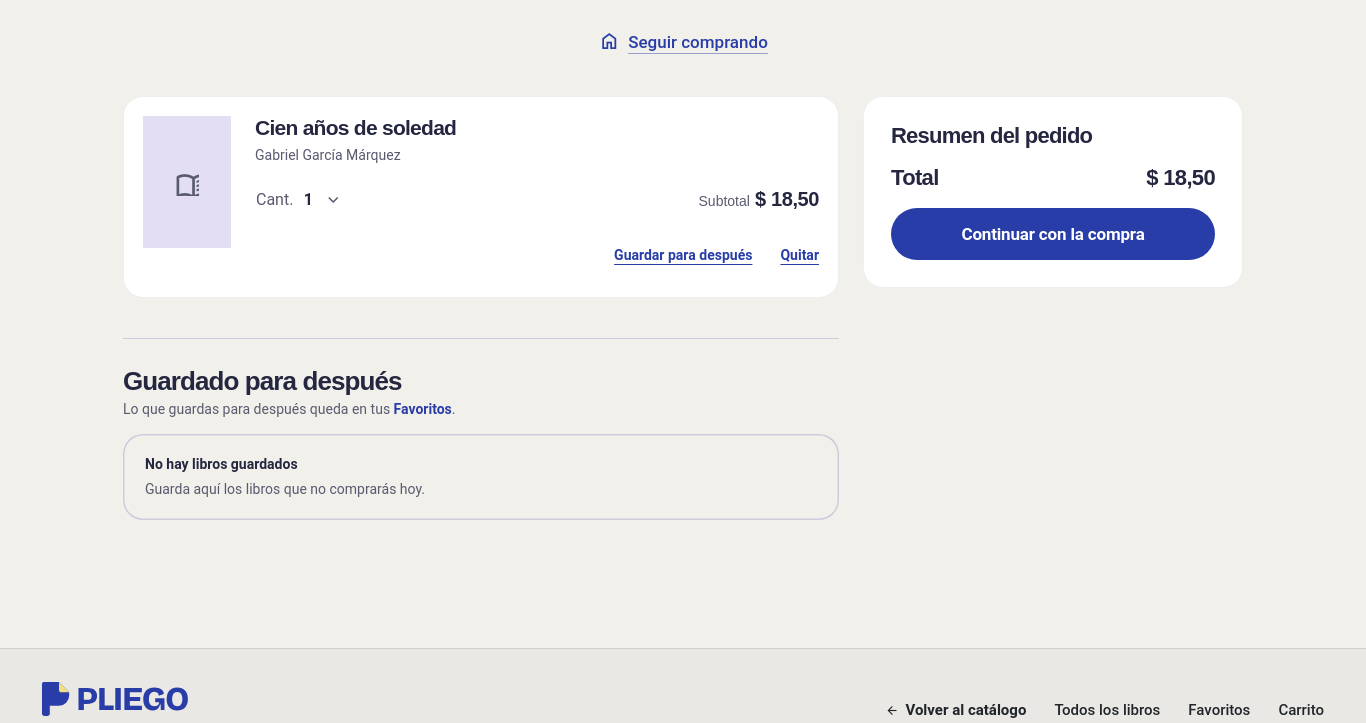
Test: CartPage › recovers from an unconfirmed change by re-reading the cart instead of repeating it
The image size is (1366, 723).
Click the dropdown named "Cantidad de Cien años de soledad". click: [298, 200]
box: 245,178 -> 350,222
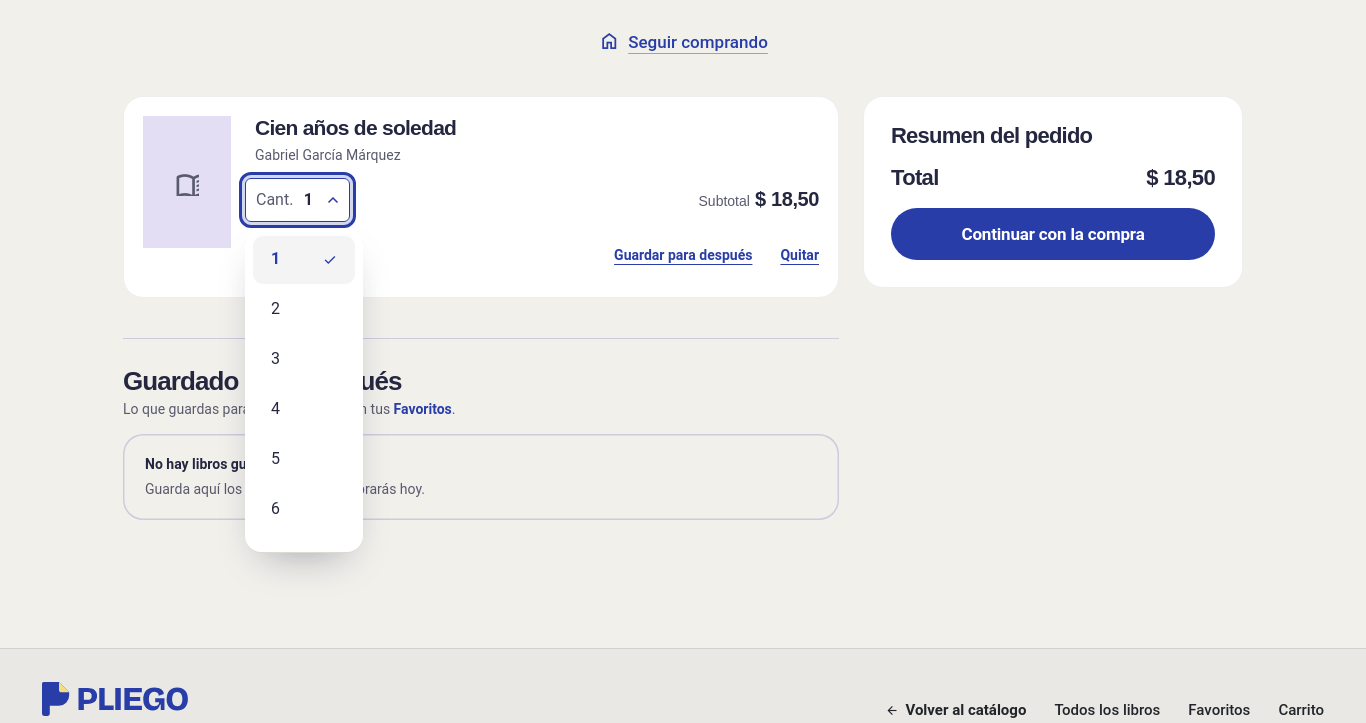
Click the option "2". click: [276, 309]
box: 271,299 -> 280,318
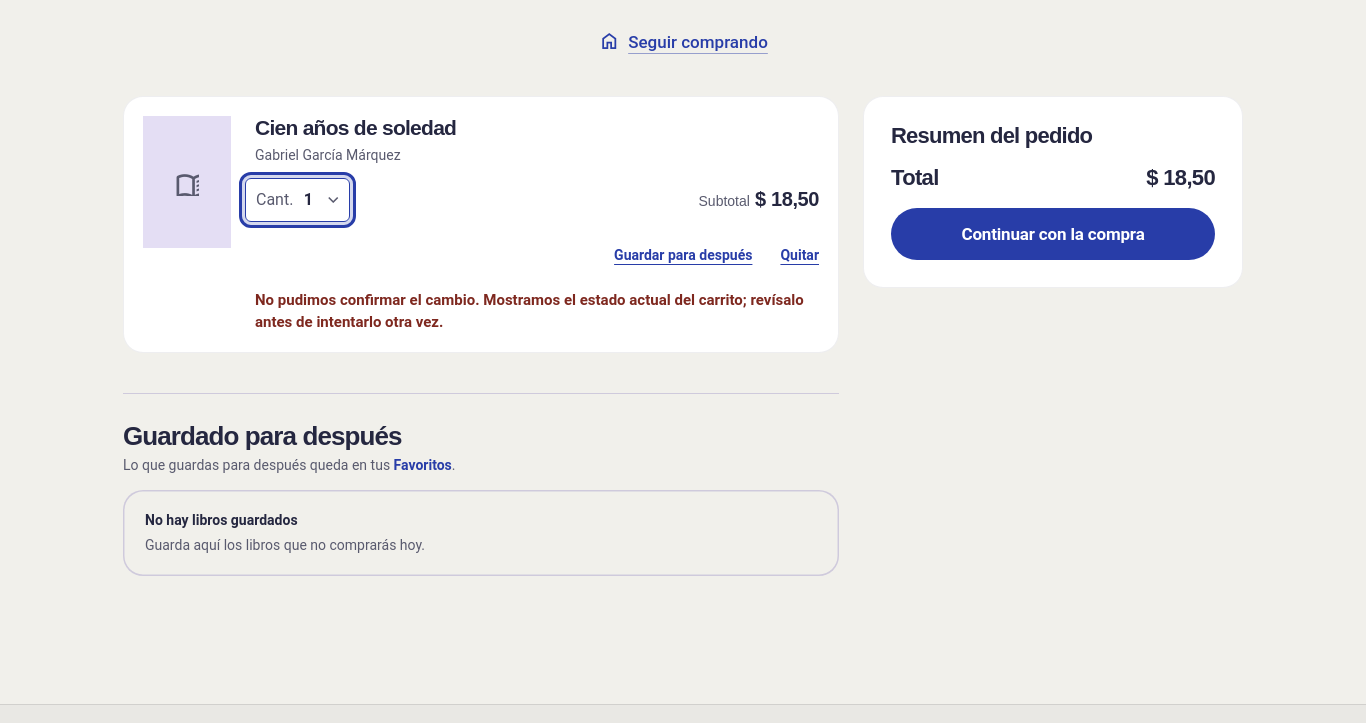
expect the message shows "No pudimos confirmar el cambio.": met, box 255,291 -> 804,331
